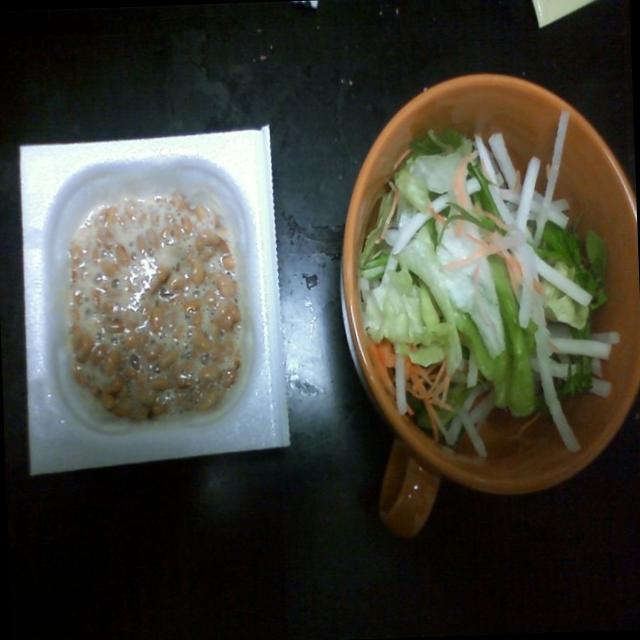Green Salad: (330, 64, 640, 500)
